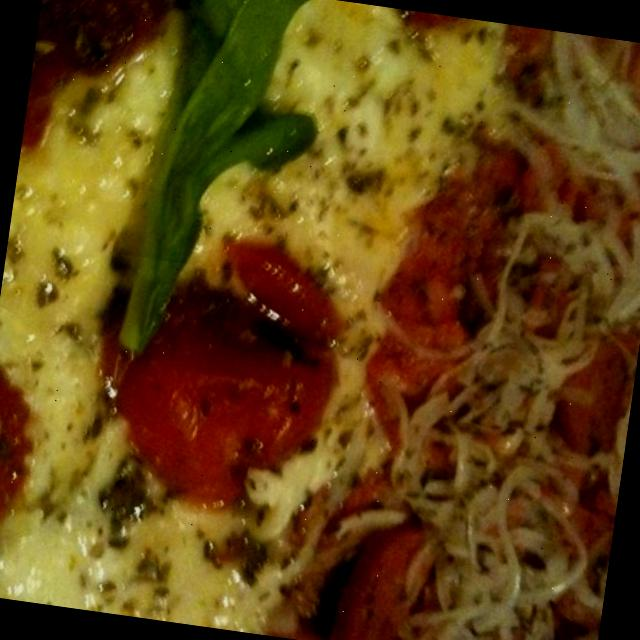basil: (103, 0, 336, 365)
pizza: (0, 0, 640, 640)
tomato: (78, 252, 371, 515)
